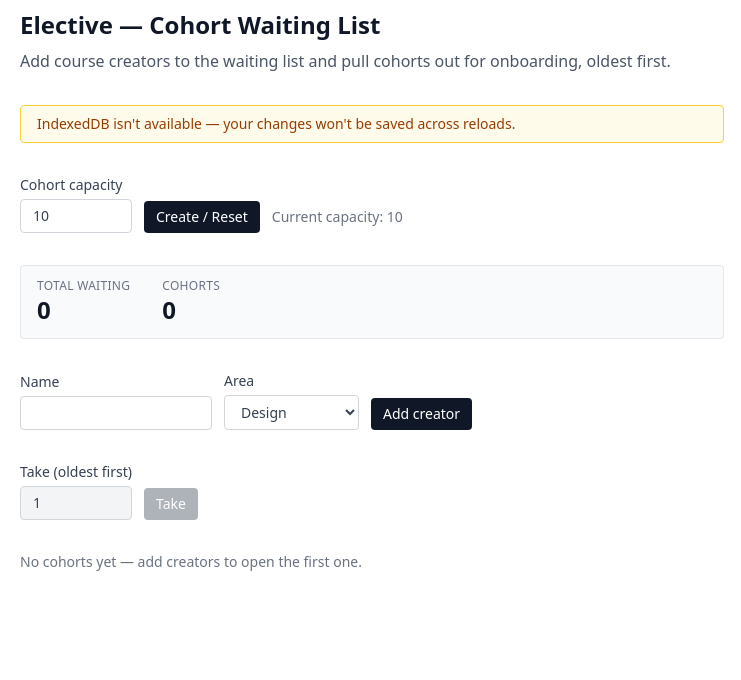
Test: persistence (IndexedDB) › runs in memory with a warning when IndexedDB is unavailable
expect the message "IndexedDB isn't available — your changes won't be saved across reloads." is shown: met, box [20,105,724,143]
Type "Ada" into the field with test id "name-input" at (116, 413), box [20,396,212,430]
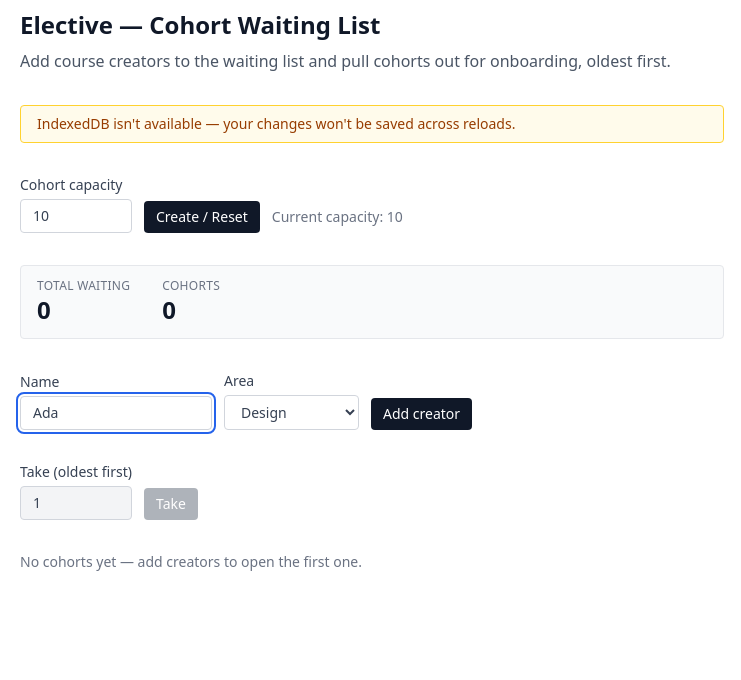
Select "Design" in the dropdown with test id "area-select" at (292, 413), box [224,395,359,430]
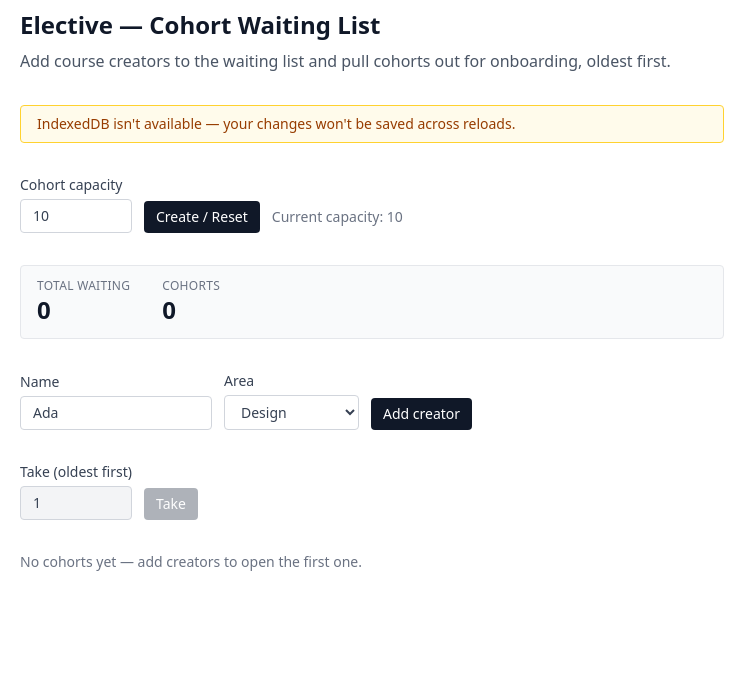
Click the button with test id "add-btn" at (422, 414), box [371,398,472,430]
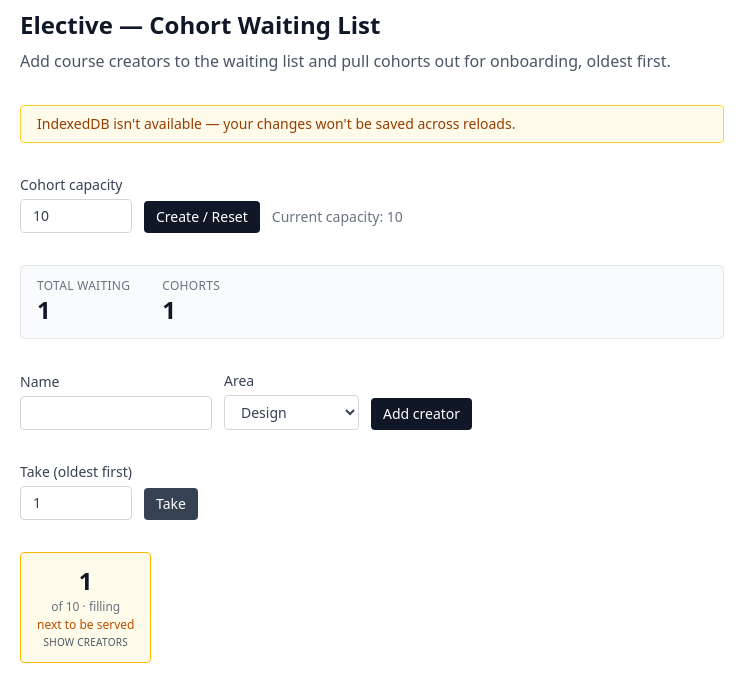
expect the text with test id "total" reads "1": met, box [37,293,51,326]
Reload the page
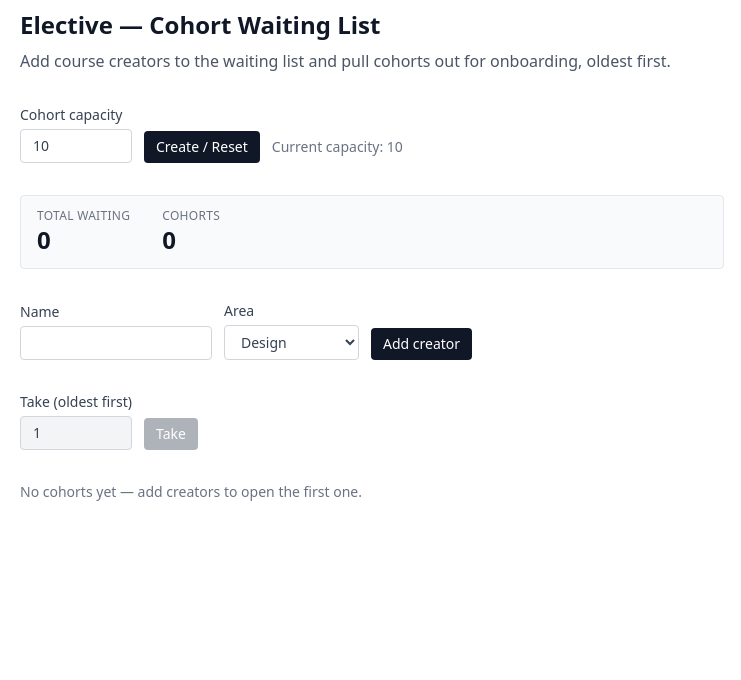
expect the text with test id "total" reads "0": met, box [37,223,51,256]
